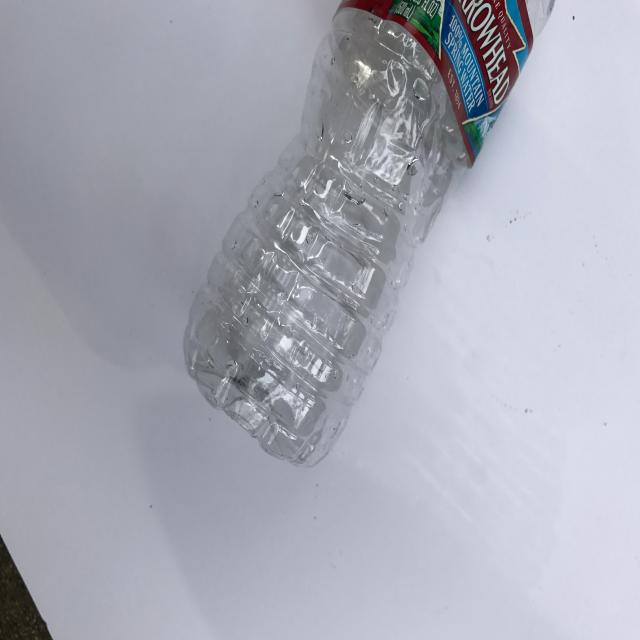plastic: (182, 0, 557, 469)
